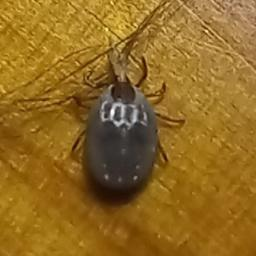Rhipicephalus sanguineus: (70, 56, 185, 198)
